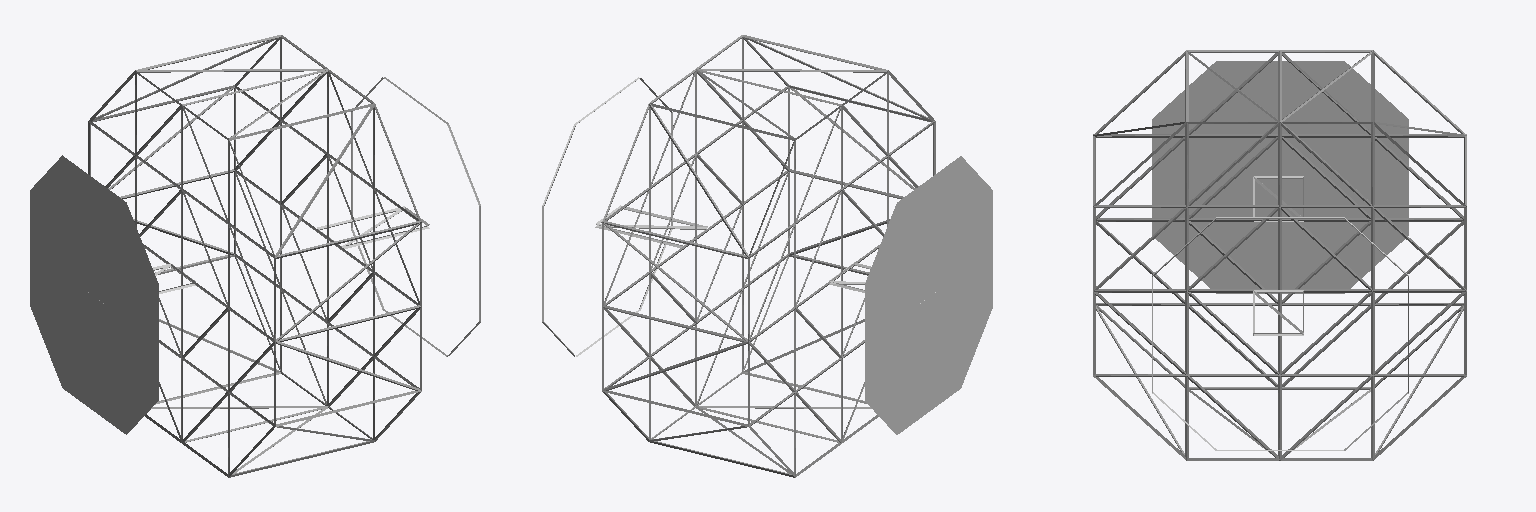
File: naveMonoswire.obj
3 renders of one model, left to right at view 1: azimuth 30°, elevation 25°; view 2: azimuth 150°, elevation 25°; view 3: azimuth 270°, elevation 25°, orthographic.
Visible parts, largest first — view 1: ala_derecha_Plane, Cabina_Cube, ala_derecha.002_Plane.002, conexionIzq_Plane.004; view 2: ala_derecha_Plane, Cabina_Cube, ala_derecha.002_Plane.002, conexionIzq_Plane.004; view 3: ala_derecha_Plane, Cabina_Cube, ala_derecha.002_Plane.002, conexionIzq_Plane.004.
Boxes of the visible parts, <box> form: ala_derecha_Plane: <box>30,155,158,434</box>; Cabina_Cube: <box>88,35,421,477</box>; ala_derecha.002_Plane.002: <box>351,77,480,356</box>; conexionIzq_Plane.004: <box>317,206,429,248</box>; ala_derecha_Plane: <box>865,156,992,434</box>; Cabina_Cube: <box>602,35,935,477</box>; ala_derecha.002_Plane.002: <box>542,77,672,356</box>; conexionIzq_Plane.004: <box>595,205,707,247</box>; ala_derecha_Plane: <box>1152,61,1408,293</box>; Cabina_Cube: <box>1093,50,1466,460</box>; ala_derecha.002_Plane.002: <box>1152,217,1408,450</box>; conexionIzq_Plane.004: <box>1253,290,1303,335</box>.
Size of the model in its own units: 6.01 by 6.04 by 6.04.